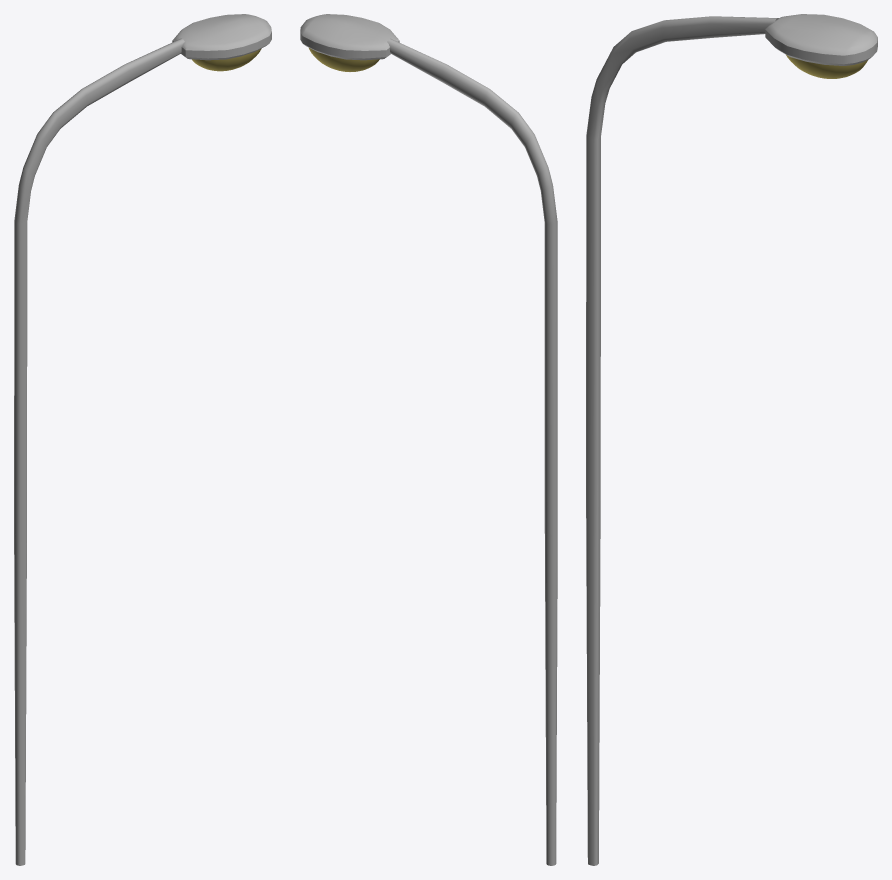
File: roadlight.fbx
3 views of the same model, side by side, from view 1: azimuth 30°, elevation 25°; view 2: azimuth 150°, elevation 25°; view 3: azimuth 330°, elevation 25° (orthographic). The views are drawn at different scales.
Visible parts, largest first — view 1: pasted__pCube2; view 2: pasted__pCube2; view 3: pasted__pCube2.
Boxes of the visible parts, x1,y1,x2,y2 form: pasted__pCube2: (14, 14, 271, 865); pasted__pCube2: (300, 14, 557, 865); pasted__pCube2: (586, 14, 877, 865).
Size of the model in its own units: 2.44 by 7.31 by 0.6181.
